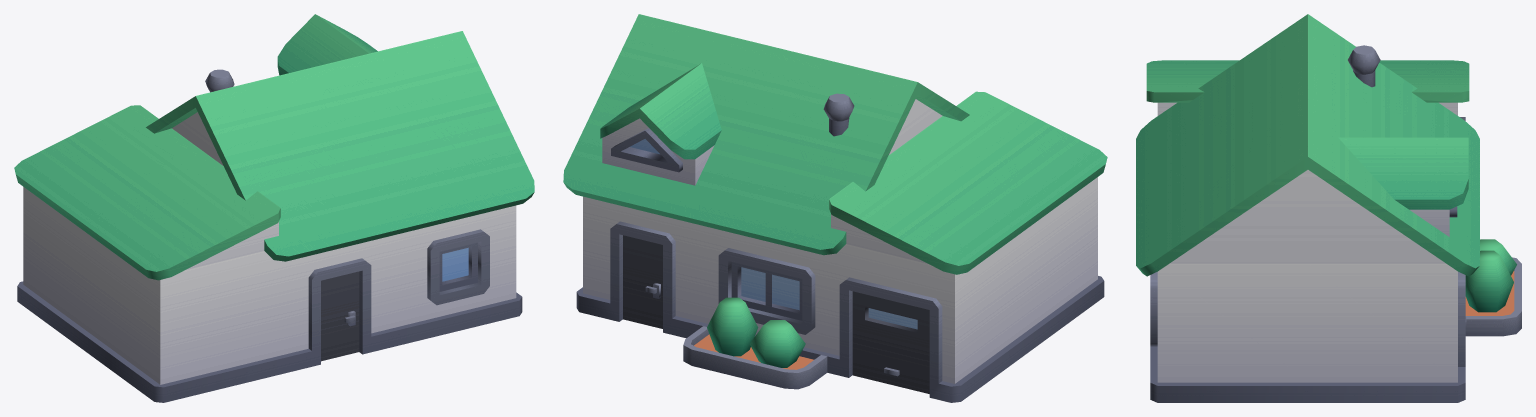
The model's file is building-type-i.glb.
The picture shows the model from 3 angles, left to right: view 1: azimuth 30°, elevation 25°; view 2: azimuth 150°, elevation 25°; view 3: azimuth 270°, elevation 25°; orthographic projection. The views are drawn at different scales.
Parts seen in each view (by area): view 1: building-type-i; view 2: building-type-i; view 3: building-type-i.
Boxes of the visible parts, box(x1,y1,x2,y2) form: building-type-i: box(14, 14, 534, 402); building-type-i: box(563, 14, 1107, 402); building-type-i: box(1136, 14, 1521, 402).
Size of the model in its own units: 1.29 by 0.7378 by 1.03.
1 material, 1 textured.
